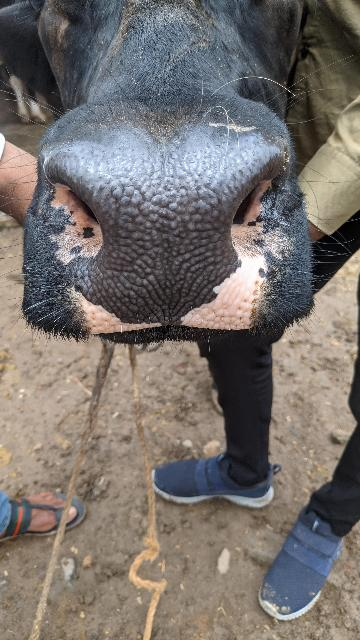Muzzle: (50, 141, 258, 333)
